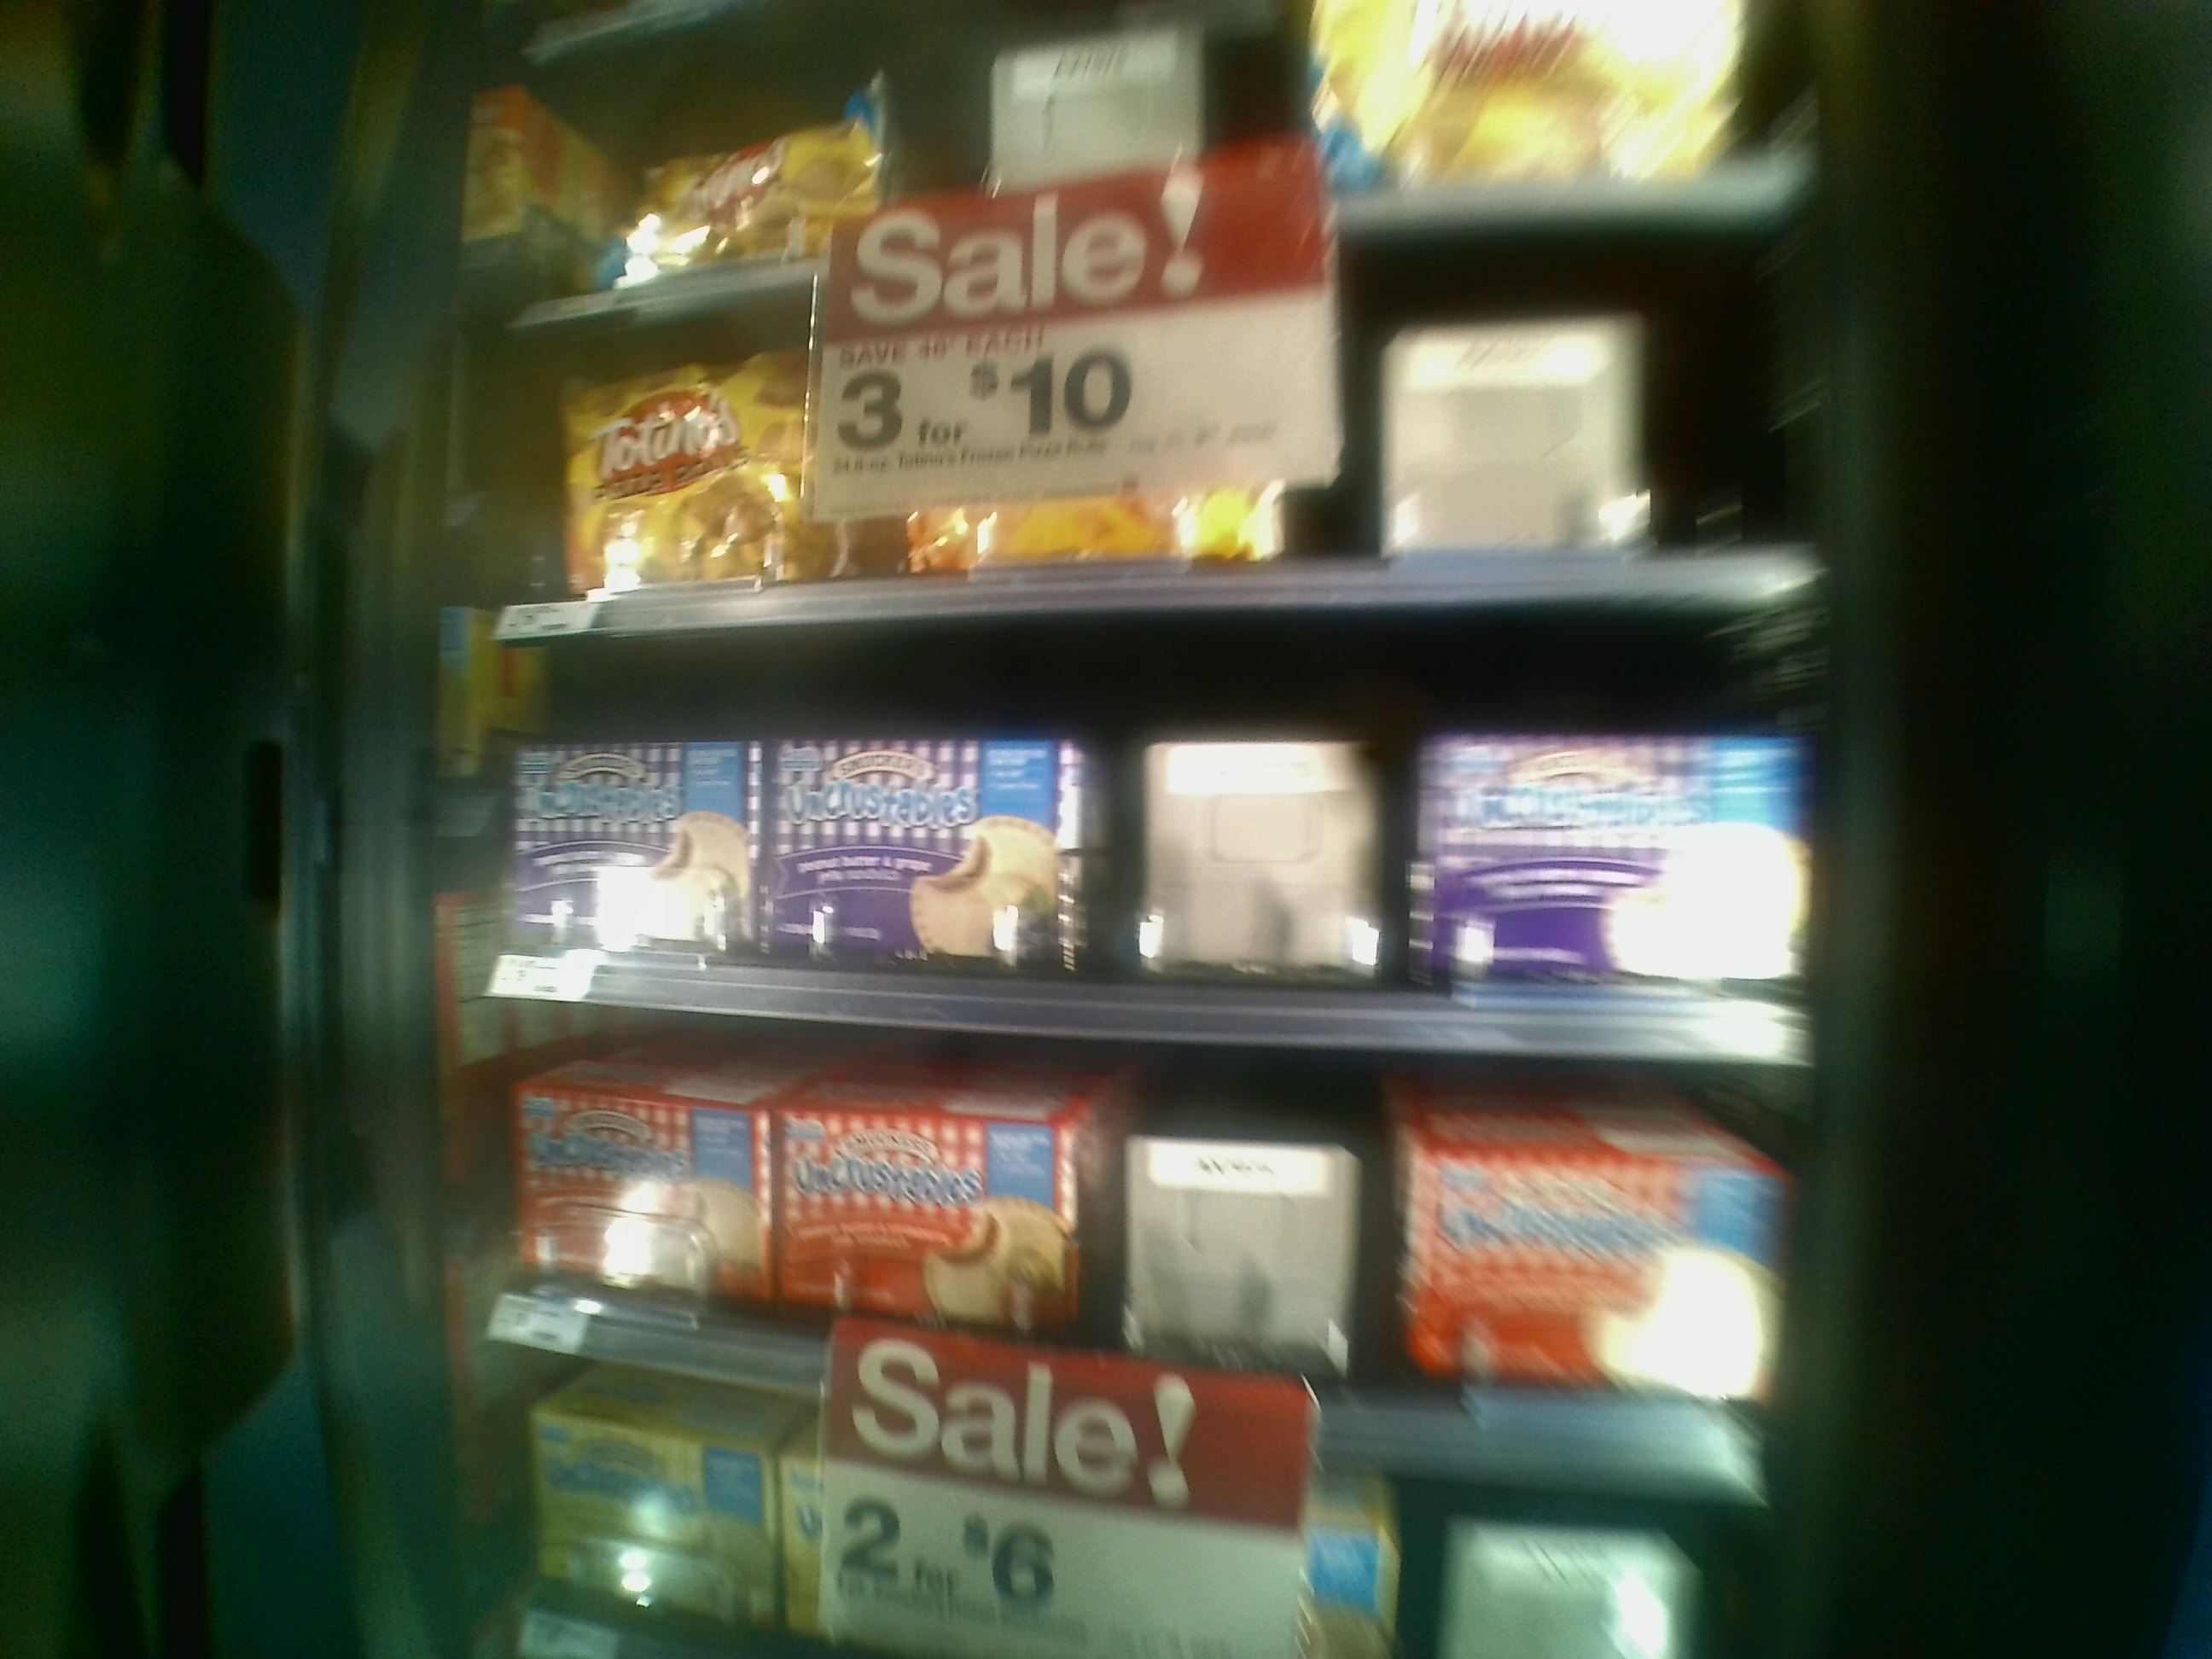shelf: (451, 988, 1787, 1497), (444, 622, 1806, 1084), (477, 296, 1801, 613)
